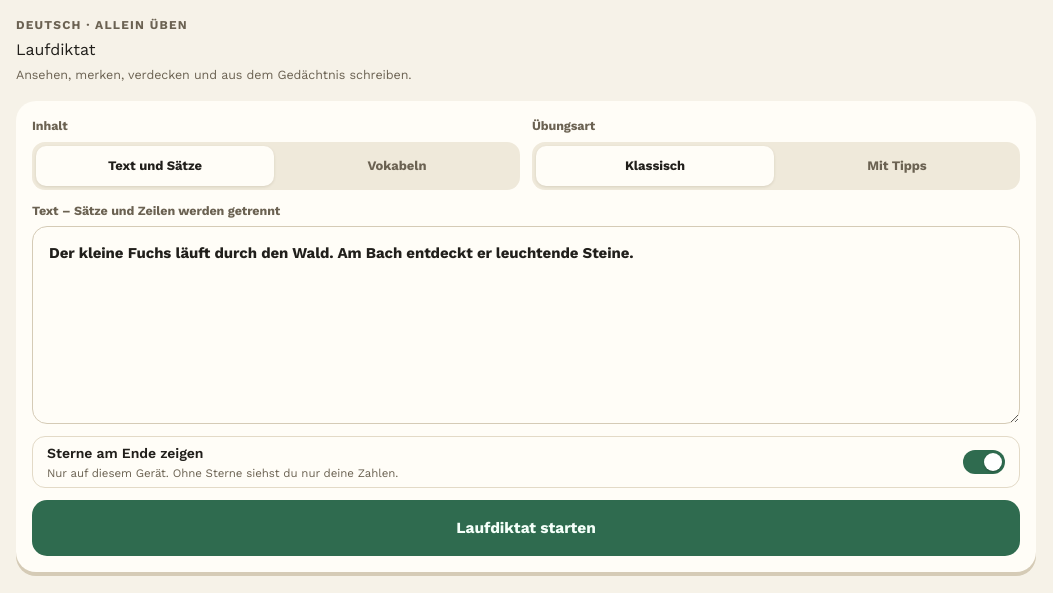
RunningDictationApp, Sterne am Ende › zeigt die Sterne standardmäßig wie bisher
Check: the checkbox labelled "Sterne am Ende zeigen" is checked, box [32,436,1020,488]
Step 1. Replace the text in the text box with "Haus." → (526, 325), box [32,226,1020,424]
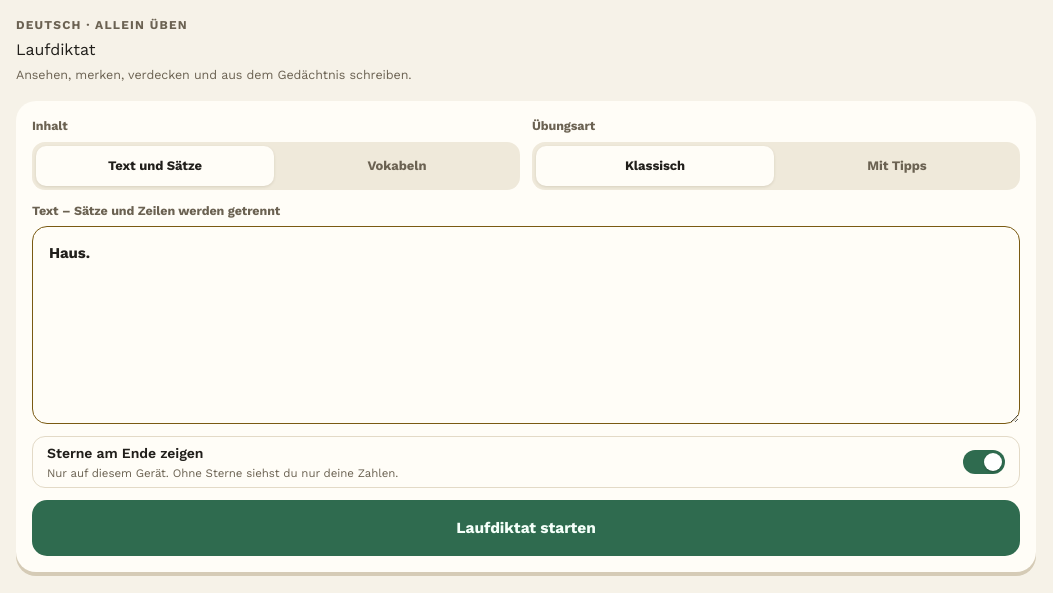
Step 2. Click the button "Laufdiktat starten" → (526, 528), box [32,500,1020,556]
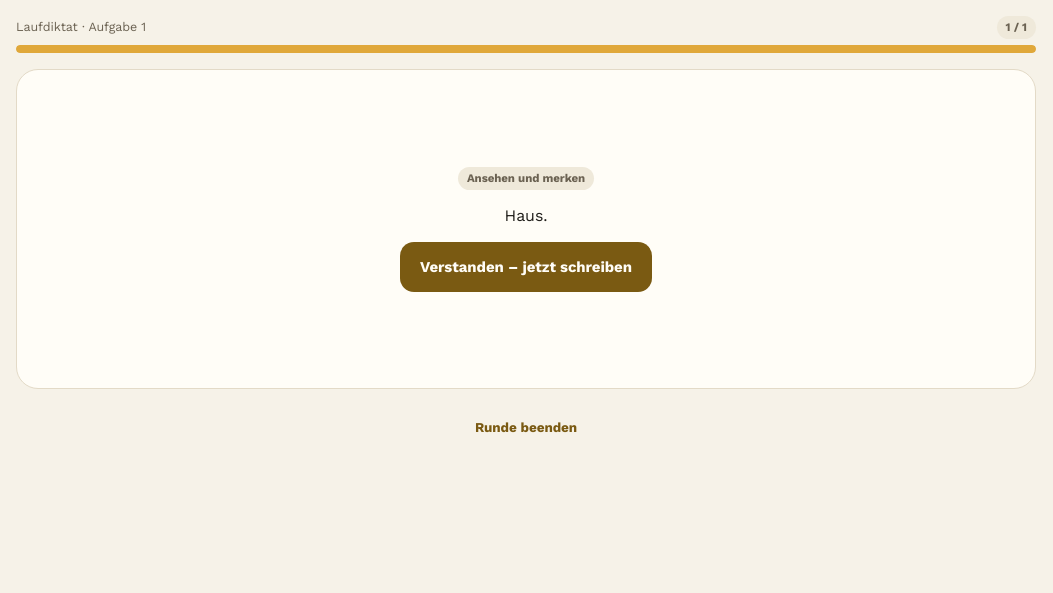
Step 3. Click the button "Verstanden – jetzt schreiben" → (526, 267), box [400,242,652,292]
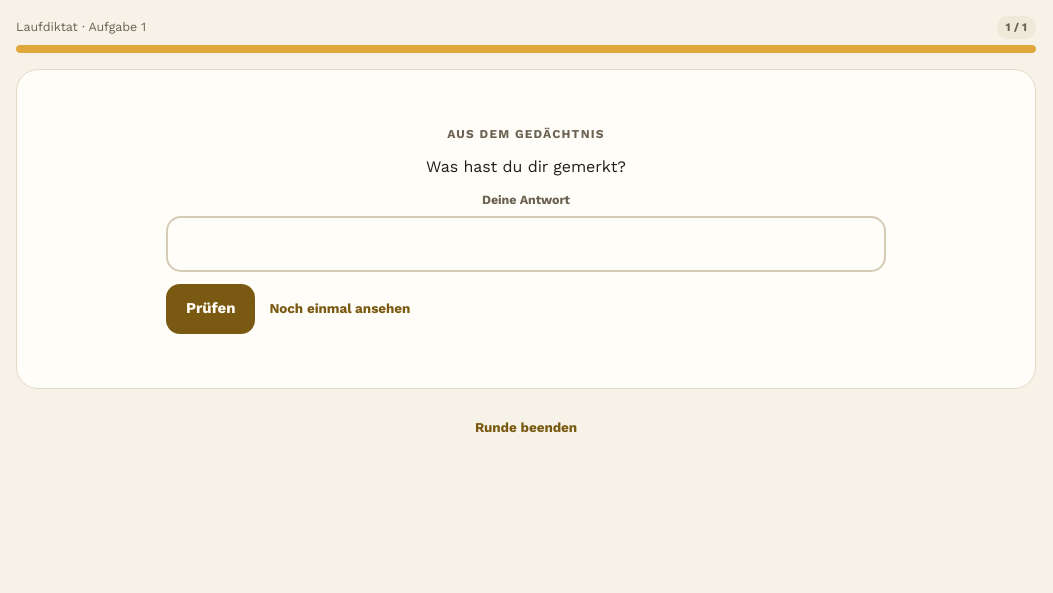
Step 4. Type "Haus." into the field labelled "Deine Antwort" → (526, 244), box [166,216,886,272]
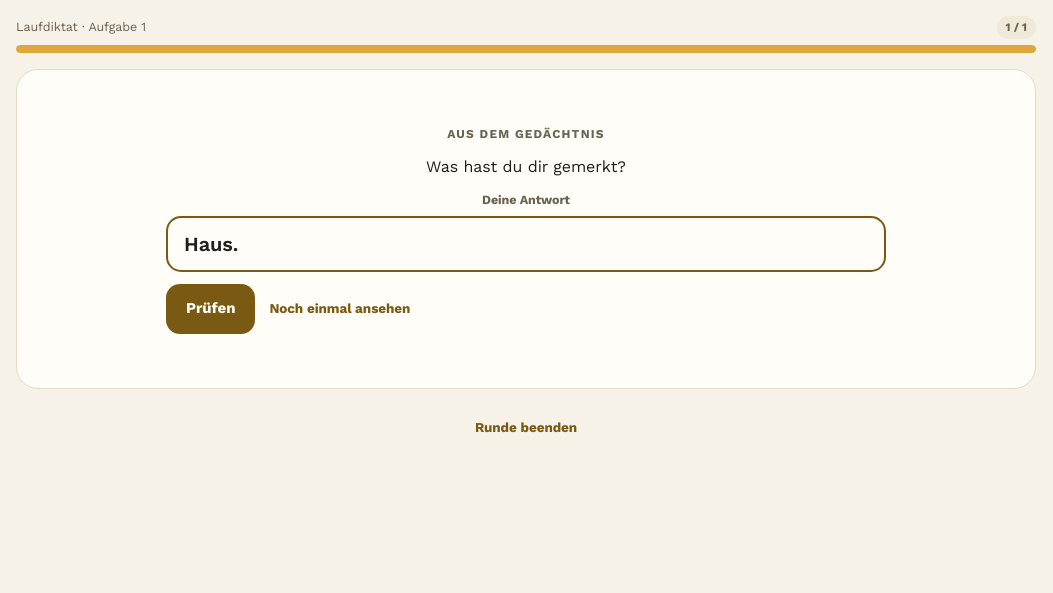
Step 5. Click the button "Prüfen" → (211, 309), box [166,284,255,334]
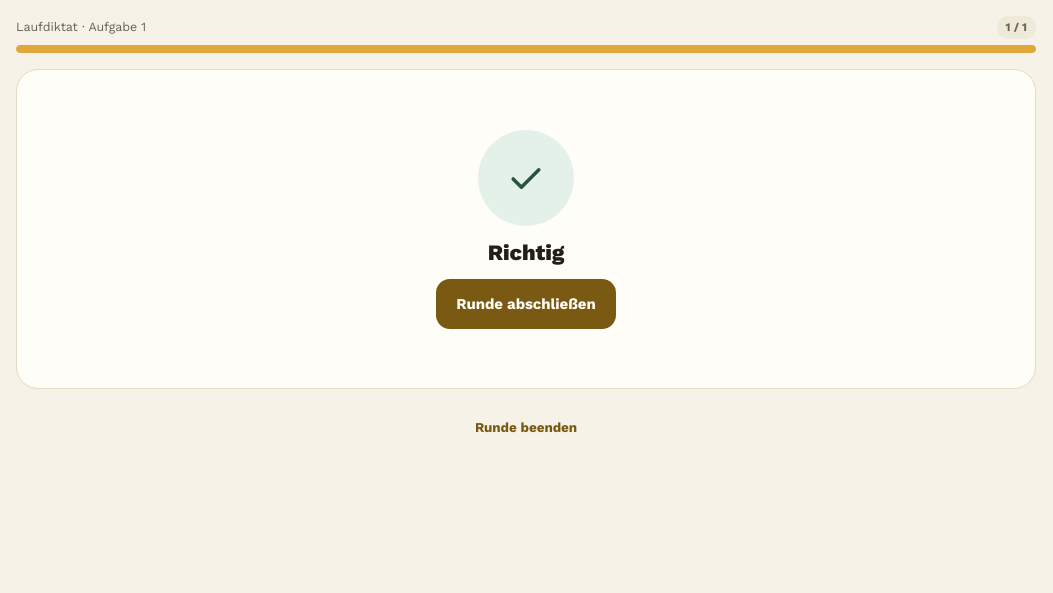
Step 6. Click the button "Runde abschließen" → (526, 304), box [436,279,616,329]
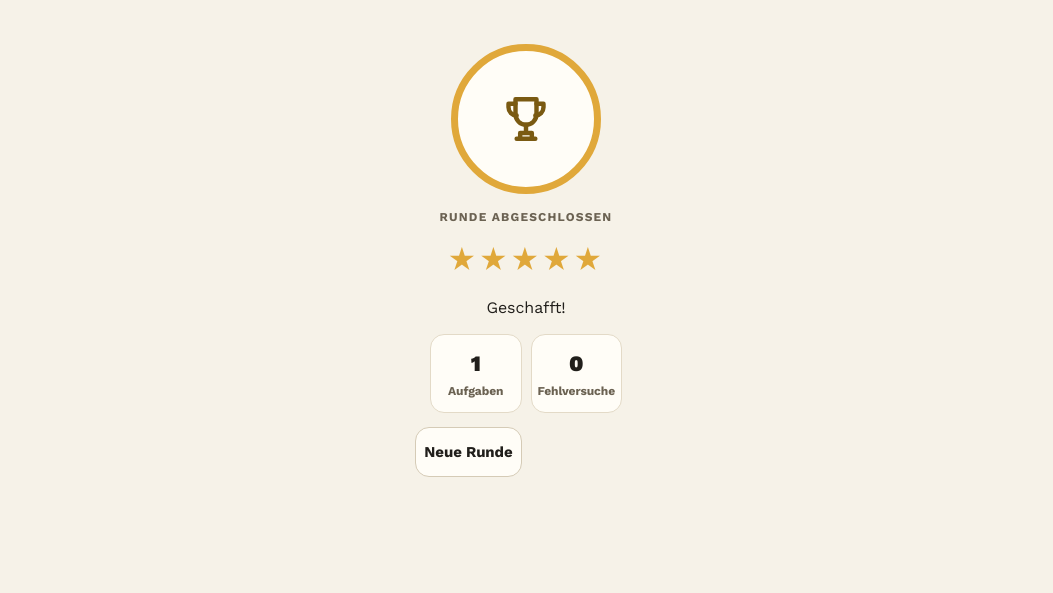
Check: the picture named "5 von 5 Sternen" is shown, box [447,240,605,282]
